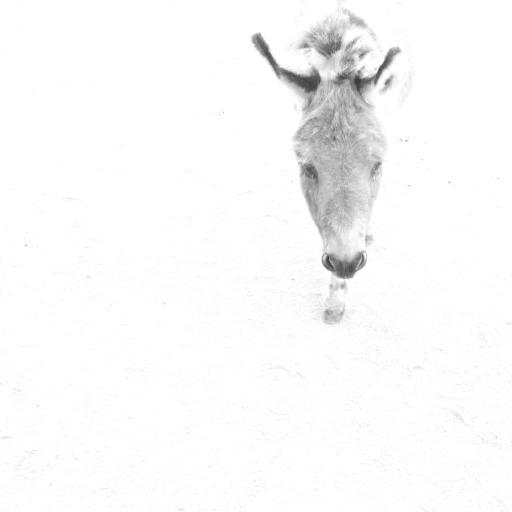horse: (252, 10, 417, 328)
